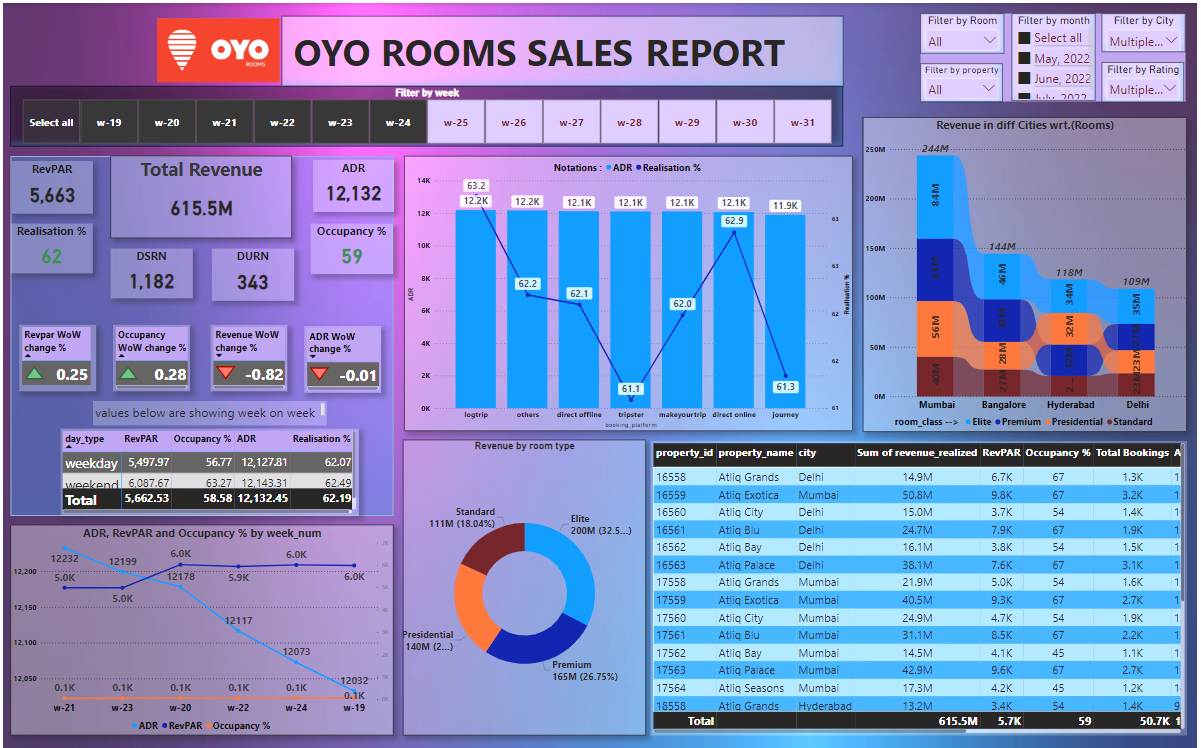

This screenshot's page, from the dashboard's own definition file:
{"tool":"powerbi","page":{"name":"OYO Dashboard","canvas":[2500,1600],"ordinal":0},"visuals":[{"type":"slicer","title":"Filter by Room","fields":{"Values":["dim_rooms.room_class"]},"box":[1911.1,8.3,180.6,86.1],"z":0,"group":"g2"},{"type":"slicer","title":"Filter by week","fields":{"Values":["dim_date.week_num"]},"box":[16.7,161.1,1800,130.6],"z":0},{"type":"donutChart","title":"Revenue by room type","fields":{"Y":["Sum(fact_bookings.revenue_realized)"],"Series":["dim_rooms.room_class"]},"box":[863.9,925,525,638.9],"z":1000},{"type":"lineStackedColumnComboChart","fields":{"Category":["fact_bookings.booking_platform"],"Y":["measure_columns.ADR"],"Y2":["measure_columns.Realisation %"]},"box":[866.7,311.1,969.4,594.4],"z":2000},{"type":"textbox","box":[603.4,8.2,1214.3,152.4],"z":3000},{"type":"group","id":"g1","title":"Group 1","box":[16.7,311.1,827.8,777.8],"z":4000},{"type":"tableEx","fields":{"Values":["dim_hotel.property_id","dim_hotel.property_name","dim_hotel.city","Sum(fact_bookings.revenue_realized)","measure_columns.RevPAR","measure_columns.Occupancy %","measure_columns.Total Bookings","measure_columns.ADR","measure_columns.DBRN","measure_columns.DSRN","measure_columns.DURN","measure_columns.Realisation %"]},"box":[1400,925,1100,638.9],"z":5000},{"type":"group","id":"g2","title":"Group 2","box":[1911.1,8.3,572.2,191.7],"z":6000},{"type":"ribbonChart","title":"Revenue in diff Cities wrt.(Rooms)","fields":{"Category":["dim_hotel.city"],"Y":["Sum(fact_bookings.revenue_realized)"],"Series":["dim_rooms.room_class"]},"box":[1861.1,227.8,616.7,677.8],"z":7000},{"type":"slicer","title":"Filter by City","fields":{"Values":["dim_hotel.city"]},"box":[2302.8,8.3,180.6,83.3],"z":8000,"group":"g2"},{"type":"lineChart","fields":{"Y":["measure_columns.ADR"],"Y2":["measure_columns.RevPAR","measure_columns.Occupancy %"],"Category":["dim_date.week_num"]},"box":[16.7,1108.3,827.8,455.6],"z":8000},{"type":"slicer","title":"Filter by month","fields":{"Values":["dim_date.mmm yy"]},"box":[2108.3,8.3,180.6,188.9],"z":9000,"group":"g2"},{"type":"image","box":[260,8.6,411.4,148.6],"z":9000},{"type":"slicer","title":"Filter by Rating","fields":{"Values":["fact_bookings.ratings_given"]},"box":[2302.8,113.9,177.8,86.1],"z":10000,"group":"g2"},{"type":"slicer","title":"Filter by property","fields":{"Values":["dim_hotel.property_name"]},"box":[1911.1,116.6,177.8,83.3],"z":11000,"group":"g2"},{"type":"pivotTable","fields":{"Rows":["dim_date.day_type"],"Values":["measure_columns.RevPAR","measure_columns.Occupancy %","measure_columns.ADR","measure_columns.Realisation %"]},"box":[125.3,900,644.4,188.9],"z":20000,"group":"g1"},{"type":"textbox","box":[194.8,841.6,505.6,52.8],"z":21000,"group":"g1"},{"type":"card","title":"Total Revenue","fields":{"Values":["Sum(fact_bookings.revenue_realized)"]},"box":[233.4,311.1,391.7,177.8],"z":28000,"group":"g1"},{"type":"card","title":"Occupancy %","fields":{"Values":["measure_columns.Occupancy %"]},"box":[666.3,455.8,178.2,109.3],"z":28500,"group":"g1"},{"type":"card","title":"RevPAR","fields":{"Values":["measure_columns.RevPAR"]},"box":[19.5,322.2,175,113.9],"z":29000,"group":"g1"},{"type":"card","title":"Realisation %","fields":{"Values":["measure_columns.Realisation %"]},"box":[16.7,458.3,177.8,108.3],"z":29500,"group":"g1"},{"type":"card","title":"DSRN","fields":{"Values":["measure_columns.DSRN"]},"box":[233.4,511.1,177.8,108.3],"z":30000,"group":"g1"},{"type":"card","title":"ADR","fields":{"Values":["measure_columns.ADR"]},"box":[669.6,318.4,174.9,112.4],"z":30500,"group":"g1"},{"type":"card","title":"DURN","fields":{"Values":["measure_columns.DURN"]},"box":[451.1,512,178.2,112.4],"z":31000,"group":"g1"},{"type":"tableEx","fields":{"Values":["measure_columns.Revenue WoW change %"]},"box":[450,676.5,166,144],"z":31500,"group":"g1"},{"type":"tableEx","fields":{"Values":["measure_columns.Occupancy WoW change %"]},"box":[238.9,676.5,166.7,144],"z":32000,"group":"g1"},{"type":"tableEx","fields":{"Values":["measure_columns.ADR WoW change %"]},"box":[652.8,679.2,166.7,144],"z":32500,"group":"g1"},{"type":"tableEx","fields":{"Values":["measure_columns.Revpar WoW change %"]},"box":[36.1,676.5,166.7,144],"z":33000,"group":"g1"}]}

Visuals, with their boxes in screenshot pixels (x1, y1, x2, y2), scaled from the page's 2500x1600 canvas onto the 1201x748 screenshot:
"Filter by Room" slicer: <box>918,4,1005,44</box>
"Filter by week" slicer: <box>8,75,873,136</box>
"Revenue by room type" donutChart: <box>415,432,667,731</box>
lineStackedColumnComboChart - fact_bookings.booking_platform x measure_columns.ADR: <box>416,145,882,423</box>
textbox: <box>290,4,873,75</box>
"Group 1" group: <box>8,145,406,509</box>
tableEx - dim_hotel.property_id x dim_hotel.property_name: <box>673,432,1200,731</box>
"Group 2" group: <box>918,4,1193,94</box>
"Revenue in diff Cities wrt.(Rooms)" ribbonChart: <box>894,106,1190,423</box>
"Filter by City" slicer: <box>1106,4,1193,43</box>
lineChart - measure_columns.ADR x measure_columns.RevPAR: <box>8,518,406,731</box>
"Filter by month" slicer: <box>1013,4,1100,92</box>
image: <box>125,4,323,73</box>
"Filter by Rating" slicer: <box>1106,53,1192,94</box>
"Filter by property" slicer: <box>918,55,1004,93</box>
pivotTable - dim_date.day_type x measure_columns.RevPAR: <box>60,421,370,509</box>
textbox: <box>94,393,336,418</box>
"Total Revenue" card: <box>112,145,300,229</box>
"Occupancy %" card: <box>320,213,406,264</box>
"RevPAR" card: <box>9,151,93,204</box>
"Realisation %" card: <box>8,214,93,265</box>
"DSRN" card: <box>112,239,198,290</box>
"ADR" card: <box>322,149,406,201</box>
"DURN" card: <box>217,239,302,292</box>
tableEx - measure_columns.Revenue WoW change %: <box>216,316,296,384</box>
tableEx - measure_columns.Occupancy WoW change %: <box>115,316,195,384</box>
tableEx - measure_columns.ADR WoW change %: <box>314,318,394,385</box>
tableEx - measure_columns.Revpar WoW change %: <box>17,316,97,384</box>
